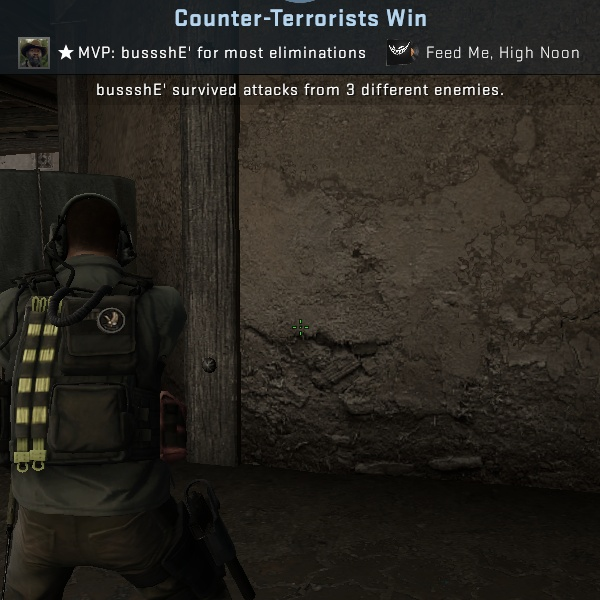ct_body: (1, 164, 242, 598)
ct_head: (31, 174, 144, 282)
